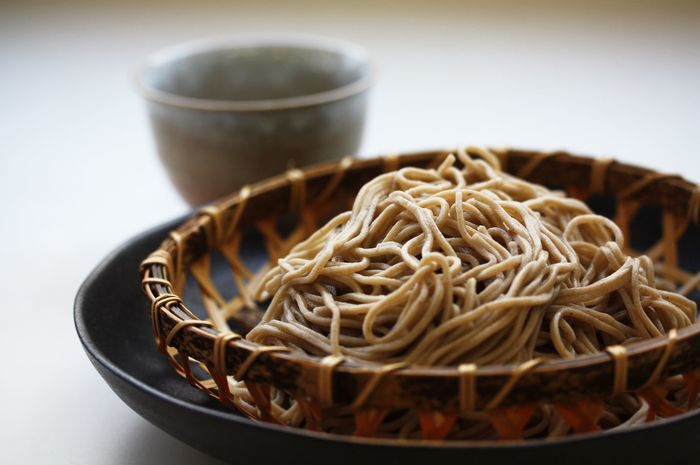Soba: (252, 151, 694, 383)
